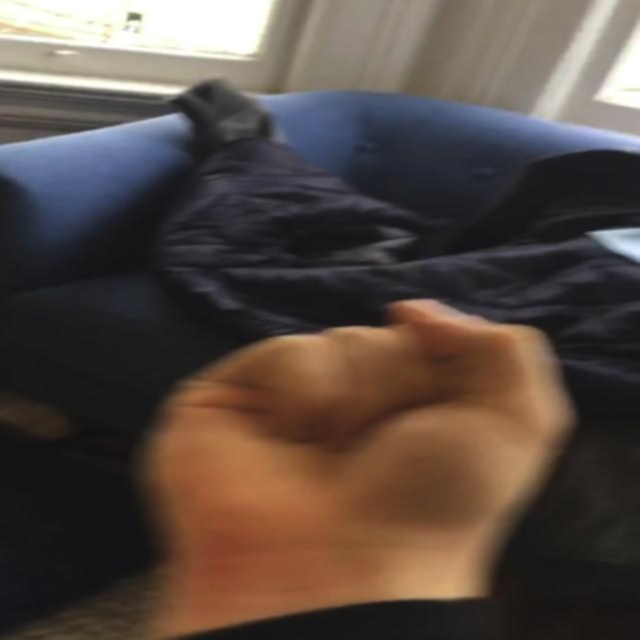Rock: (146, 294, 579, 564)
